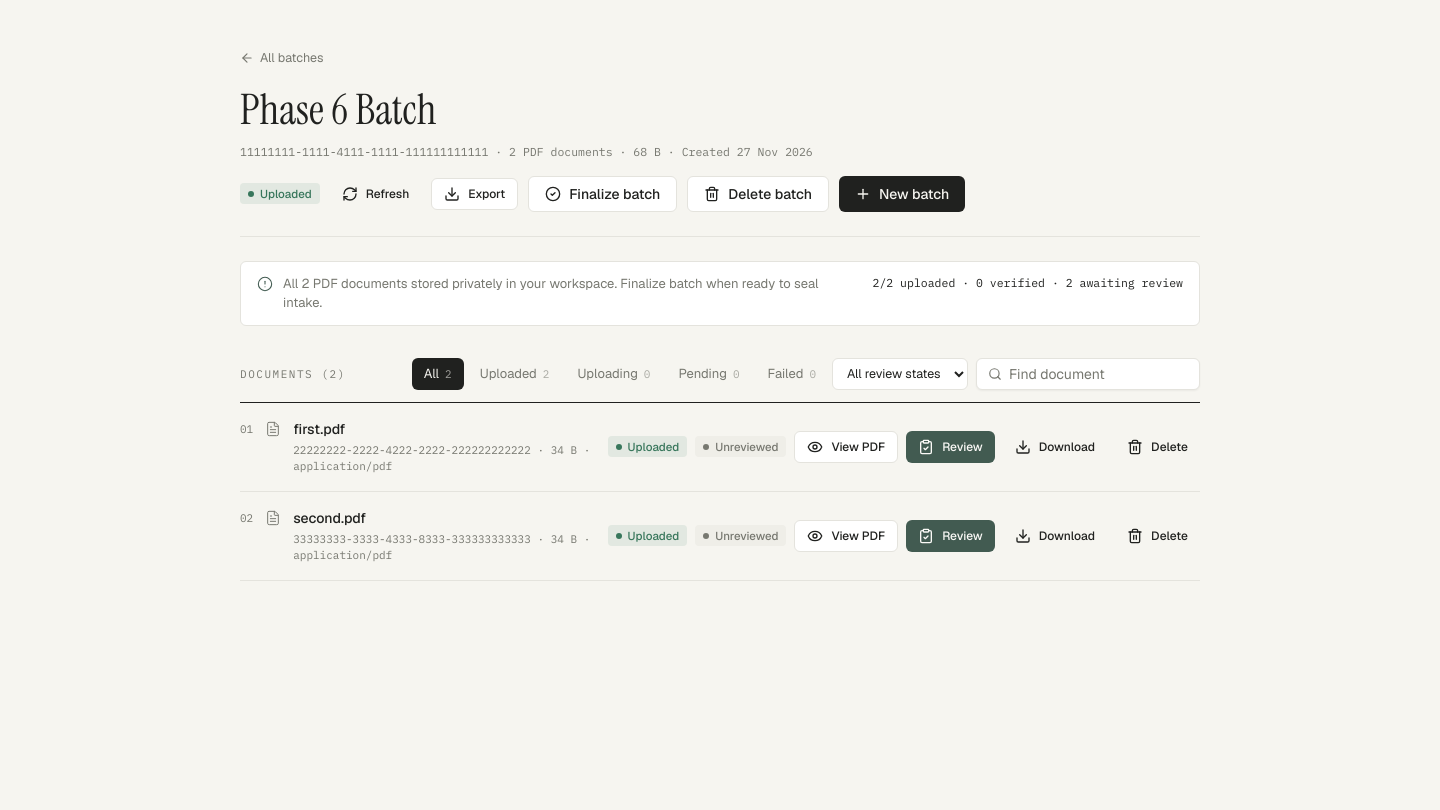
it: Phase 6 — Document access UI (preview, unavailable recovery, search, single delete, focus) › supports single-document deletion on unfinalized batches with focus preservation and hides single delete when finalized
Later steps or results of the test are not shown.
Click the button with aria-label "Delete first.pdf" at x=1158, y=447, box [1115,431,1200,463]
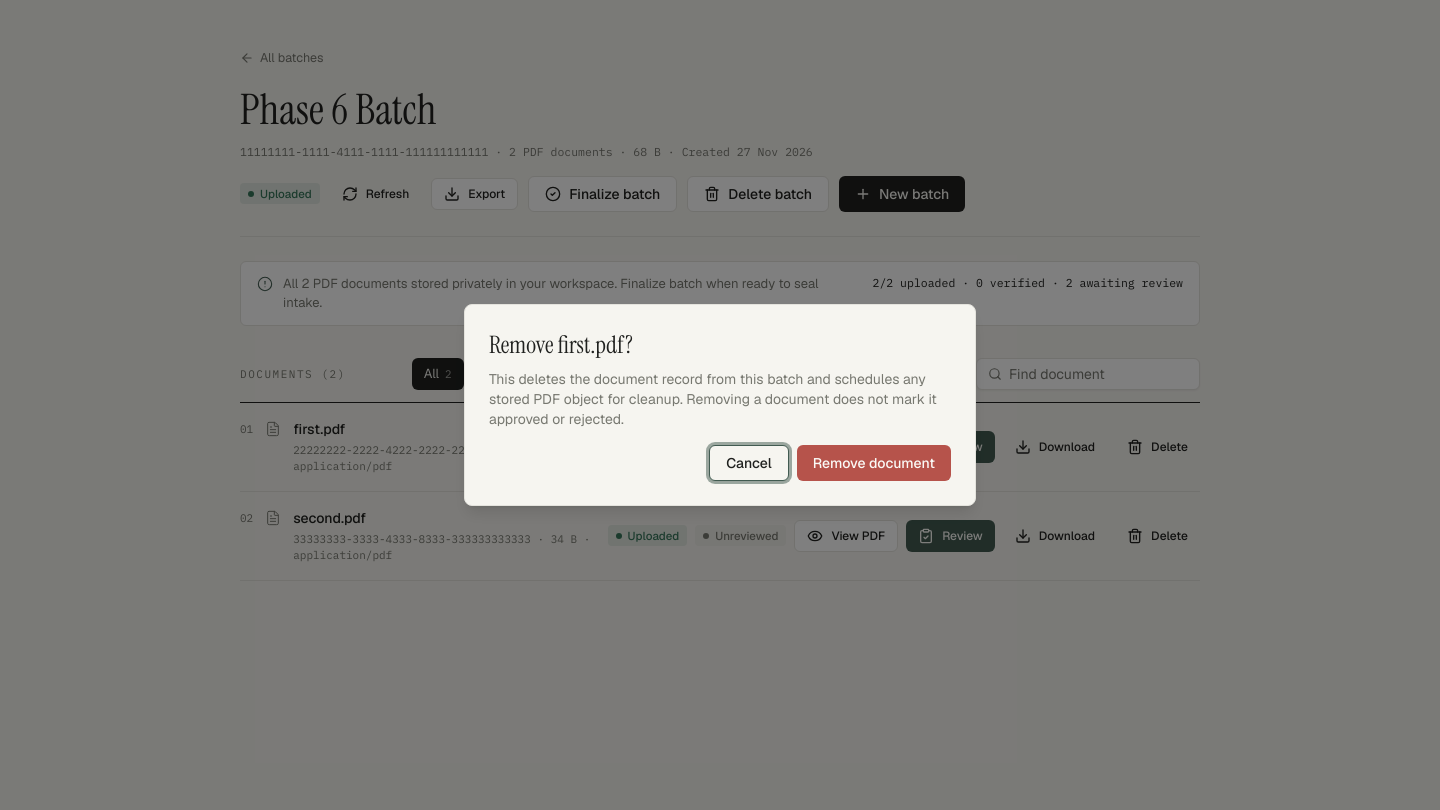
Expected: the text "Removing a document does not mark it approved or rejected" is shown, [489,370,937,428]
Click the button "Remove document" at x=874, y=463, box [797,445,951,481]
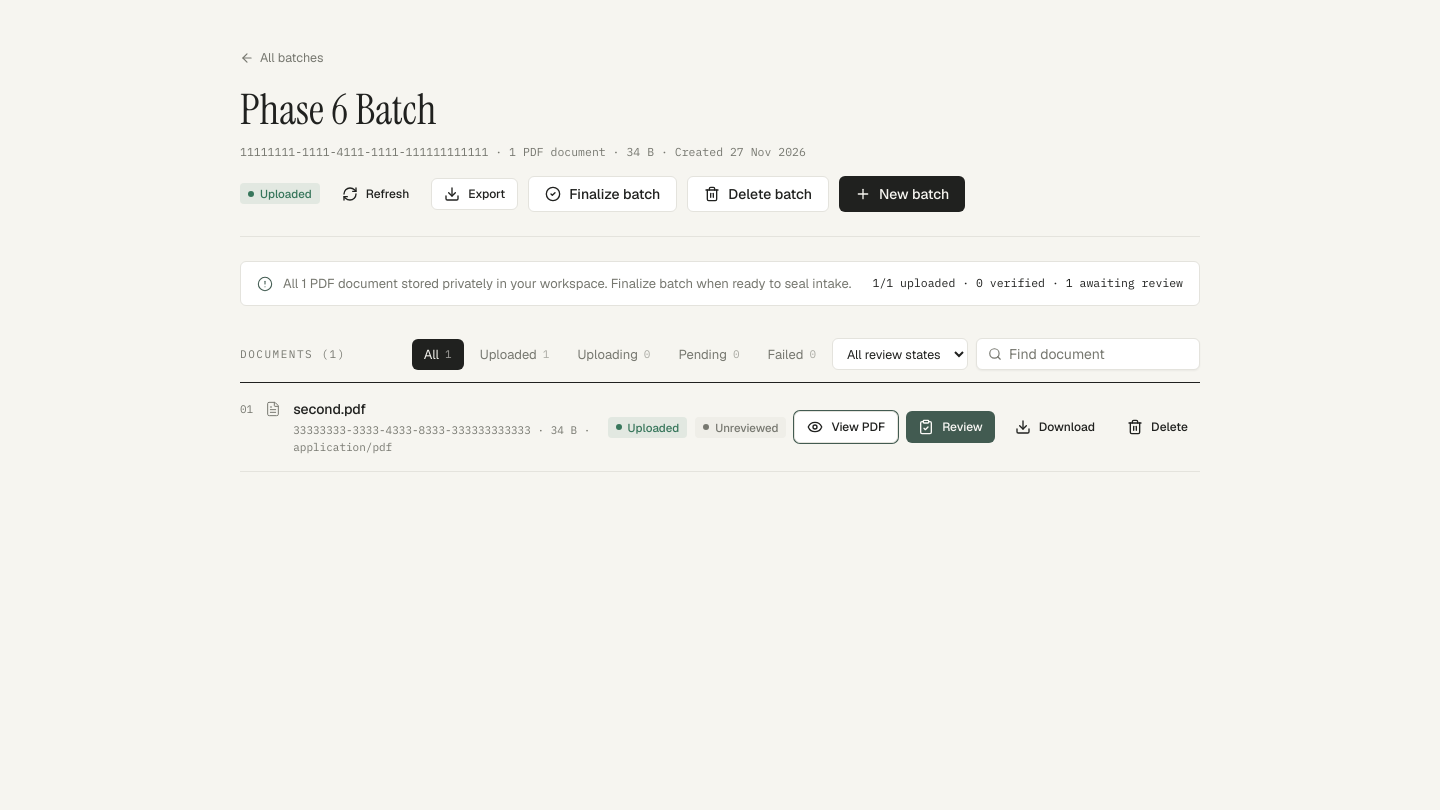
Expected: the text "second.pdf" is shown, [293,400,366,418]
Expected: the text "first.pdf" is gone
